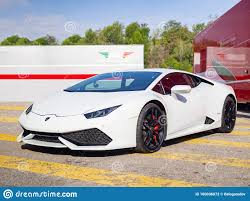Lamborghini: (27, 71, 229, 146)
